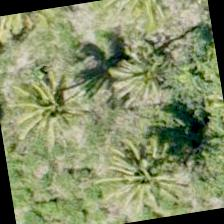Kelapa_Sawit: (108, 106, 212, 210), (0, 49, 103, 153), (93, 30, 196, 133)
